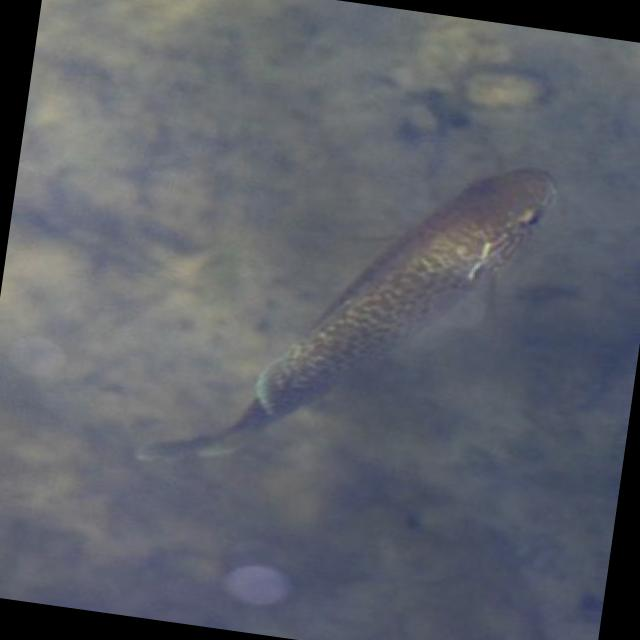Gunes Levregi: (133, 108, 566, 515)
